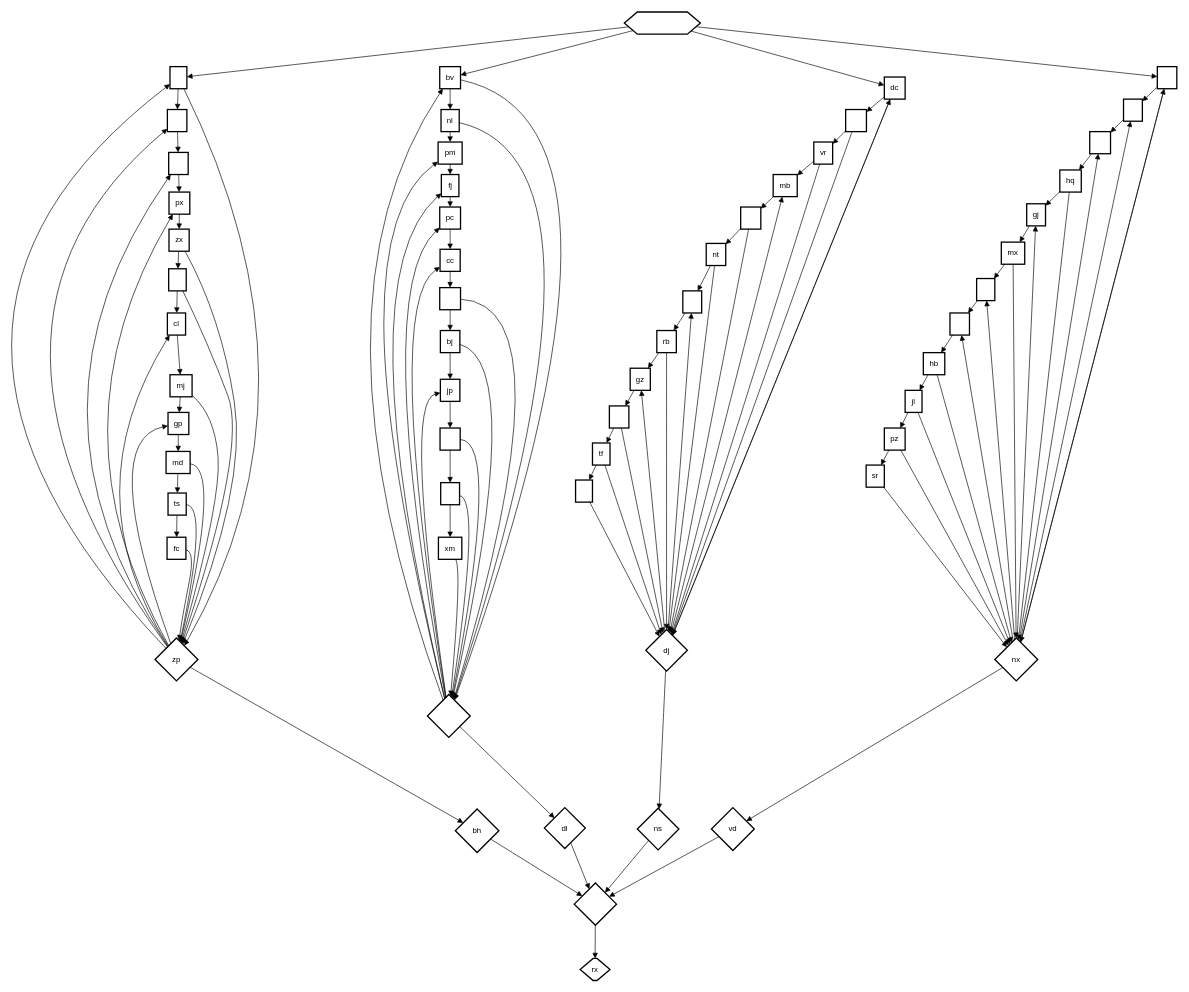
This 1189x992 diagram has some shape labels left out. Each missing label, with the box of its shape:
br: (1156, 66, 1177, 89)
broadcaster: (623, 11, 701, 34)
bz: (426, 694, 471, 738)
df: (608, 405, 629, 428)
fn: (168, 151, 188, 175)
gl: (976, 278, 995, 301)
hs: (166, 109, 187, 132)
jc: (440, 482, 460, 505)
kd: (1089, 131, 1111, 154)
lq: (682, 290, 702, 313)
ls: (169, 66, 187, 89)
lt: (575, 479, 593, 502)
pr: (949, 312, 970, 335)
vp: (845, 109, 867, 132)
xc: (439, 427, 461, 450)
xf: (1123, 98, 1143, 122)
xp: (439, 287, 461, 310)
xx: (740, 206, 761, 229)
zh: (573, 882, 617, 926)
zl: (168, 268, 187, 291)
